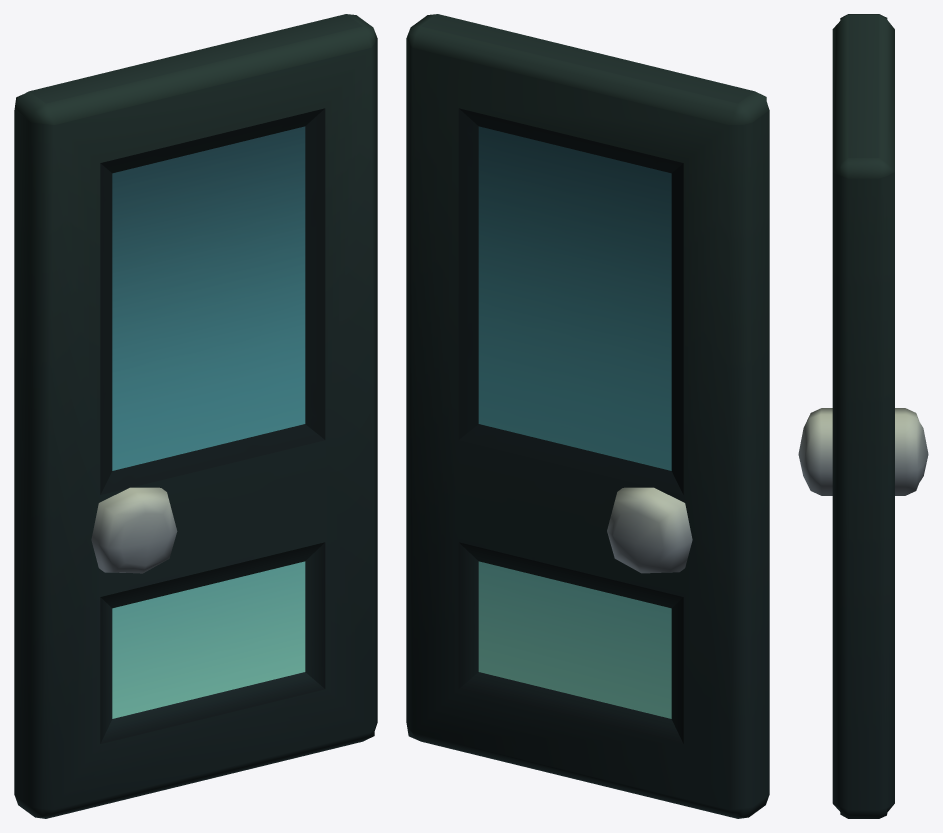
File: door_appartment_dark3_LOD_group.fbx
3 views of the same model, side by side, from view 1: azimuth 30°, elevation 25°; view 2: azimuth 150°, elevation 25°; view 3: azimuth 270°, elevation 25° (orthographic). The views are drawn at different scales.
Visible parts, largest first — view 1: door_appartment_dark3_LOD0; view 2: door_appartment_dark3_LOD0; view 3: door_appartment_dark3_LOD0.
Part boxes in pixels (bbox=[...]): door_appartment_dark3_LOD0: bbox=[14, 14, 377, 818]; door_appartment_dark3_LOD0: bbox=[406, 14, 769, 818]; door_appartment_dark3_LOD0: bbox=[798, 14, 928, 818].
Size of what is drawn, in the model's own units: 104 by 206 by 36.84.
